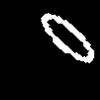chain: (41, 13, 93, 62)
